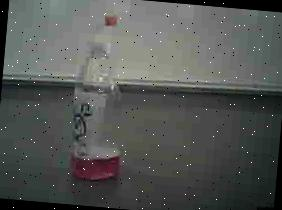hazard: (61, 10, 138, 188)
